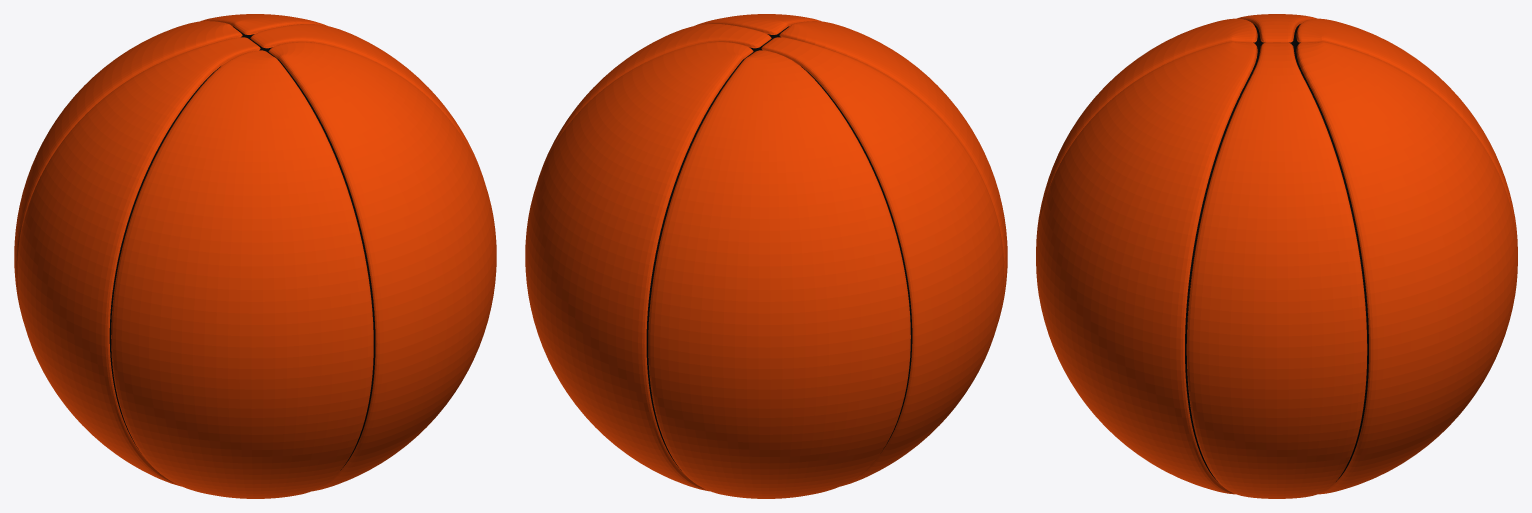
File: Basketball.fbx
The picture shows the model from 3 angles, left to right: view 1: azimuth 30°, elevation 25°; view 2: azimuth 150°, elevation 25°; view 3: azimuth 270°, elevation 25°; orthographic projection.
Visible parts, largest first — view 1: Sphere; view 2: Sphere; view 3: Sphere.
Boxes of the visible parts, box(x1,y1,x2,y2) form: Sphere: box(14, 14, 496, 498); Sphere: box(525, 14, 1007, 498); Sphere: box(1036, 14, 1517, 498).
Bounding box in the file's own units: 197 × 196 × 197.
